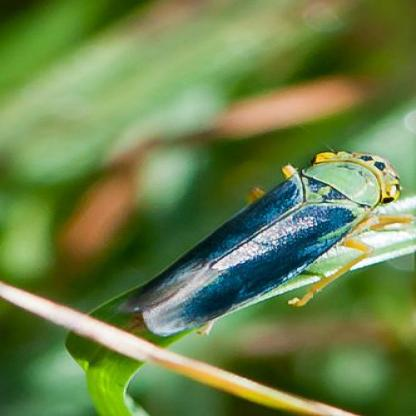Green-Leafhopper: (105, 141, 414, 344)
